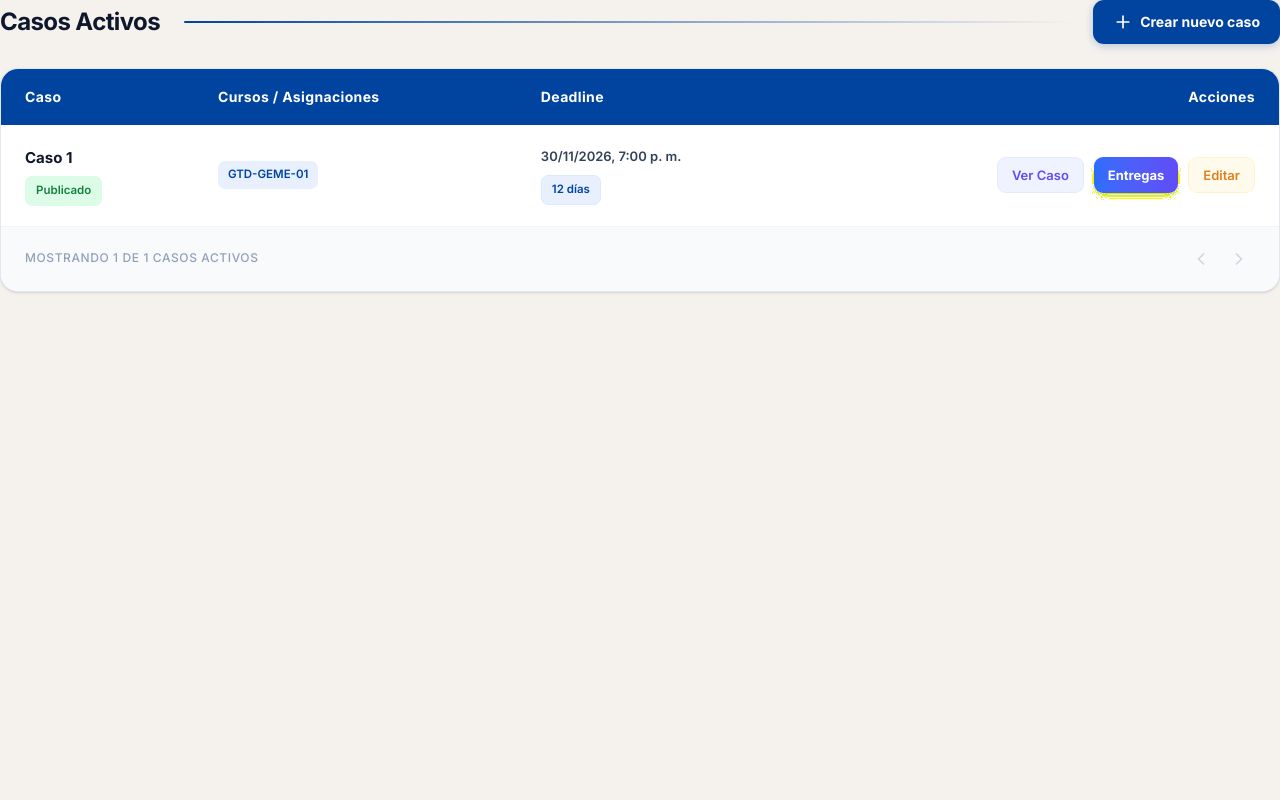
CasosActivosSection › DeadlineEditModal is removed from DOM after clicking Cancelar
Click the button "Editar". click: (1222, 175)
box: [1188, 157, 1255, 193]
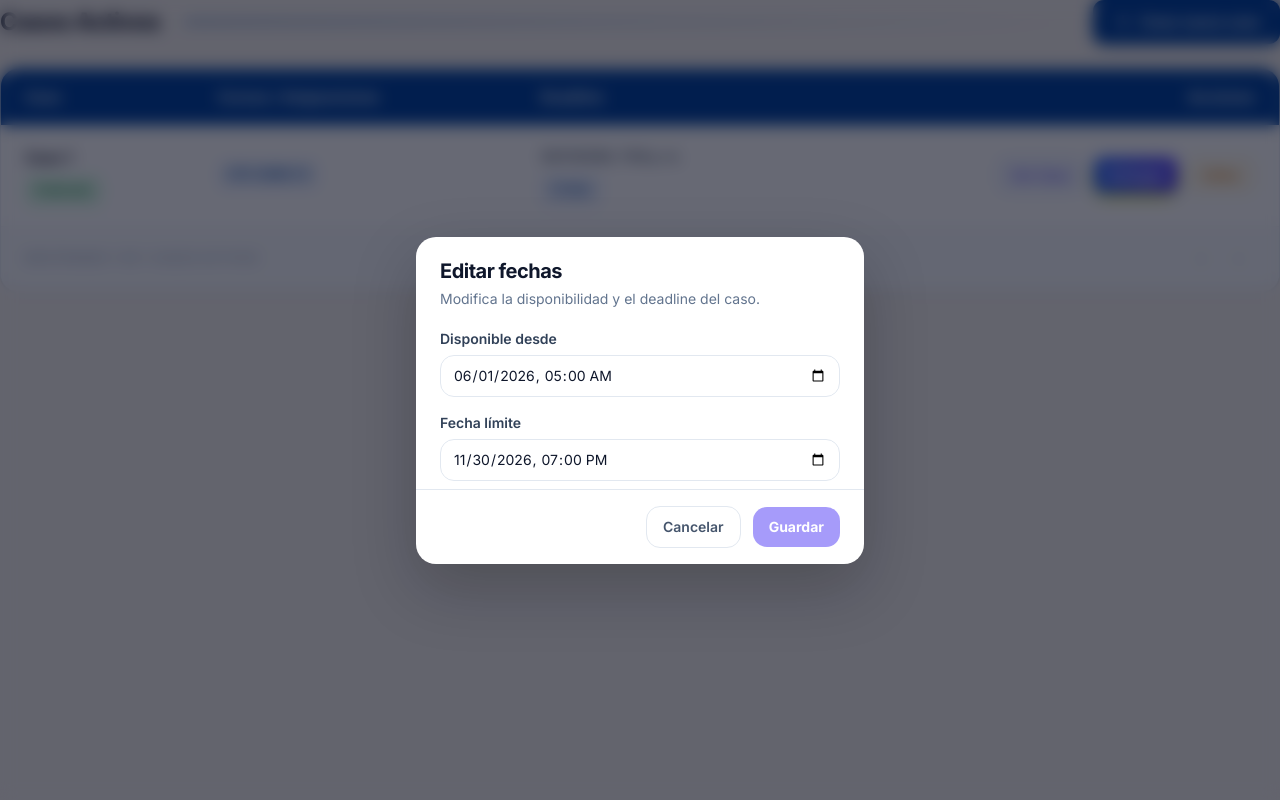
Expected: the heading "Editar fechas" is shown, [440, 258, 562, 282]
Click the button "Cancelar". click: (693, 526)
box: [646, 506, 741, 548]
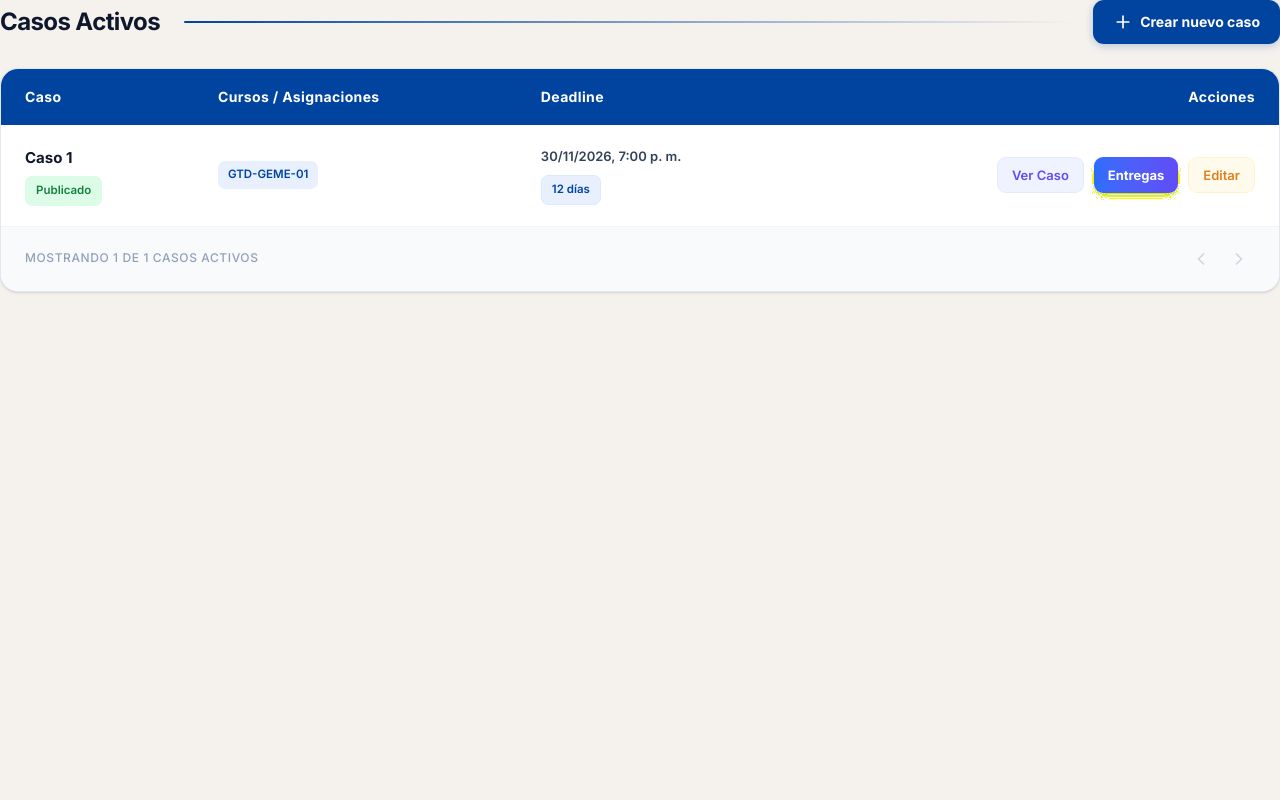
Expected: the heading "Editar fechas" is gone
